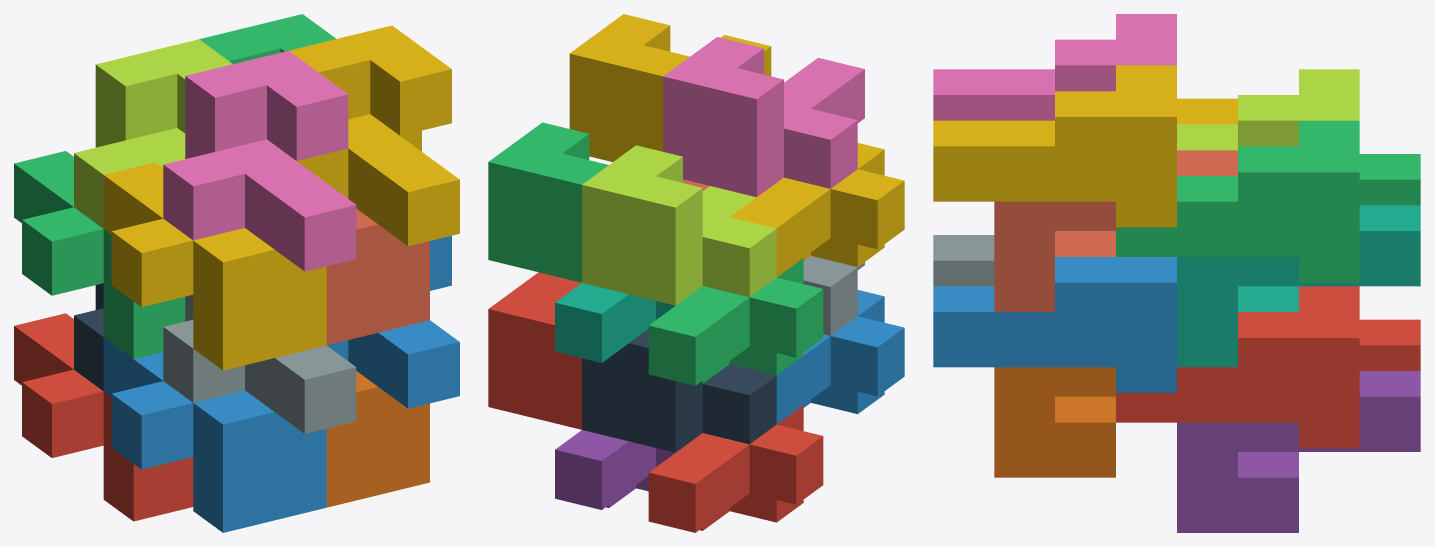
Rendered from tiling.obj.
3 views of the same model, side by side, from view 1: azimuth 30°, elevation 25°; view 2: azimuth 150°, elevation 25°; view 3: azimuth 270°, elevation 25° (orthographic). The views are drawn at different scales.
Parts seen in each view (by area): view 1: copy_2_domain_4, copy_1_domain_4, copy_1_domain_2, copy_2_domain_8, copy_1_domain_1, copy_1_domain_3, copy_2_domain_3, copy_2_domain_2, copy_1_domain_6, copy_1_domain_8, copy_2_domain_6, copy_2_domain_7 (+1 smaller); view 2: copy_2_domain_4, copy_2_domain_3, copy_2_domain_1, copy_1_domain_1, copy_1_domain_3, copy_2_domain_7, copy_2_domain_8, copy_1_domain_4, copy_2_domain_5, copy_1_domain_2, copy_1_domain_5, copy_1_domain_7 (+1 smaller); view 3: copy_2_domain_8, copy_2_domain_6, copy_2_domain_7, copy_2_domain_5, copy_1_domain_5, copy_1_domain_7, copy_1_domain_6, copy_2_domain_4, copy_1_domain_8, copy_2_domain_3, copy_1_domain_1, copy_1_domain_3 (+2 smaller).
Boxes of the visible parts, x1=… form: copy_2_domain_4: x1=163, y1=50, x2=356, y2=271; copy_1_domain_4: x1=103, y1=162, x2=326, y2=370; copy_1_domain_2: x1=103, y1=337, x2=326, y2=532; copy_2_domain_8: x1=289, y1=25, x2=459, y2=246; copy_1_domain_1: x1=14, y1=313, x2=193, y2=521; copy_1_domain_3: x1=14, y1=151, x2=185, y2=358; copy_2_domain_3: x1=74, y1=39, x2=232, y2=228; copy_2_domain_2: x1=163, y1=294, x2=356, y2=433; copy_1_domain_6: x1=326, y1=371, x2=429, y2=507; copy_1_domain_8: x1=326, y1=208, x2=429, y2=344; copy_2_domain_6: x1=327, y1=235, x2=459, y2=408; copy_2_domain_7: x1=199, y1=14, x2=336, y2=63; copy_2_domain_4: x1=663, y1=37, x2=864, y2=197; copy_2_domain_3: x1=582, y1=145, x2=776, y2=305; copy_2_domain_1: x1=582, y1=329, x2=776, y2=452; copy_1_domain_1: x1=648, y1=405, x2=823, y2=532; copy_1_domain_3: x1=648, y1=258, x2=823, y2=385; copy_2_domain_7: x1=488, y1=122, x2=608, y2=282; copy_2_domain_8: x1=569, y1=14, x2=771, y2=161; copy_1_domain_4: x1=730, y1=143, x2=904, y2=276; copy_2_domain_5: x1=488, y1=272, x2=581, y2=429; copy_1_domain_2: x1=776, y1=290, x2=904, y2=423; copy_1_domain_5: x1=555, y1=430, x2=675, y2=509; copy_1_domain_7: x1=555, y1=283, x2=675, y2=362; copy_2_domain_8: x1=933, y1=65, x2=1176, y2=227; copy_2_domain_6: x1=933, y1=257, x2=1176, y2=392; copy_2_domain_7: x1=1116, y1=120, x2=1359, y2=282; copy_2_domain_5: x1=1116, y1=286, x2=1359, y2=448; copy_1_domain_5: x1=1177, y1=371, x2=1420, y2=532; copy_1_domain_7: x1=1177, y1=205, x2=1420, y2=367; copy_1_domain_6: x1=994, y1=367, x2=1115, y2=477; copy_2_domain_4: x1=933, y1=14, x2=1176, y2=120; copy_1_domain_8: x1=994, y1=150, x2=1237, y2=311; copy_2_domain_3: x1=1177, y1=69, x2=1359, y2=150; copy_1_domain_1: x1=1359, y1=319, x2=1420, y2=370; copy_1_domain_3: x1=1359, y1=154, x2=1420, y2=205.
Bounding box in the file's own units: 6 × 8 × 8.
